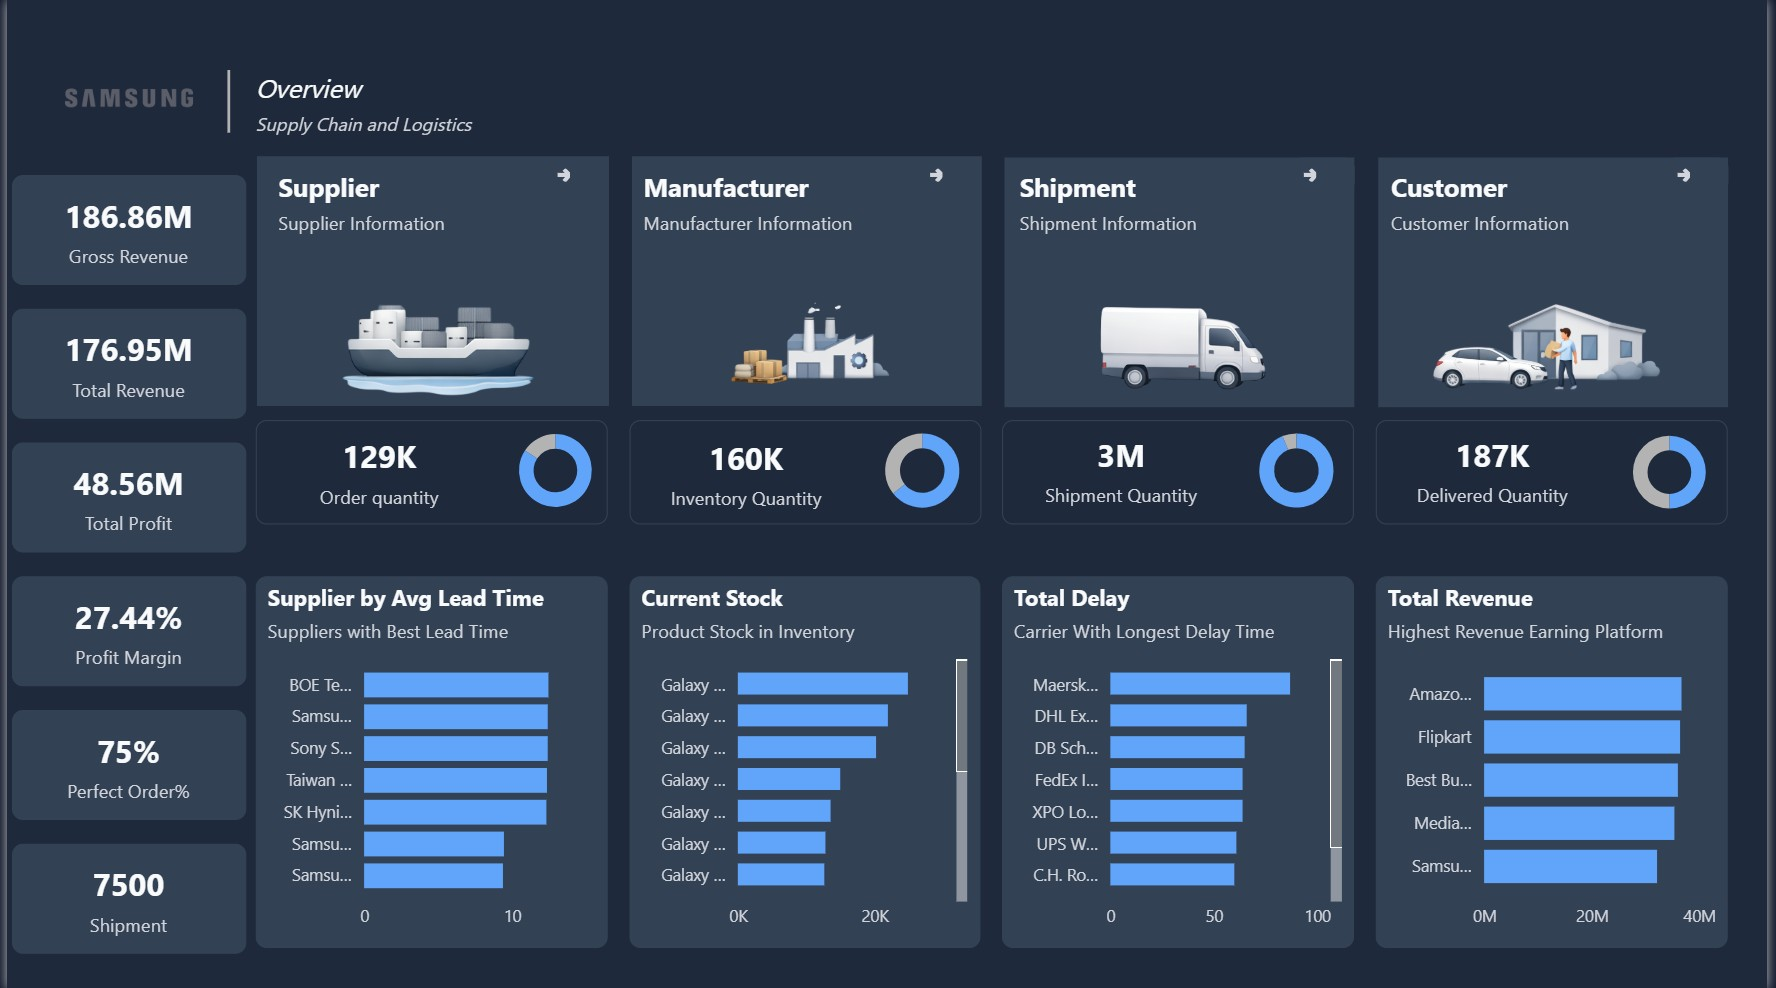

The page's visual inventory and layout, read from the dashboard file:
{"tool":"powerbi","page":{"name":"Overview","canvas":[1280,720],"ordinal":1},"visuals":[{"type":"shape","title":"Overview","box":[181.1,51.1,203.3,62.2],"z":0},{"type":"shape","box":[181.7,113.3,255.7,181.8],"z":0,"group":"g1"},{"type":"shape","box":[454,113.8,254.4,181.9],"z":1000,"group":"g1"},{"type":"shape","box":[181.2,305,256.2,76.2],"z":1000},{"type":"shape","box":[118.9,51.1,84.4,45.6],"z":2000},{"type":"shape","box":[725.6,114.1,254.4,181.9],"z":2000,"group":"g1"},{"type":"group","id":"g1","title":"Group 1","box":[181.7,113.3,1069.9,182.9],"z":3000},{"type":"shape","box":[997.2,114.4,254.4,181.9],"z":3000,"group":"g1"},{"type":"image","box":[16.7,0,144.4,142.2],"z":4000},{"type":"image","box":[224.1,200.8,171.2,91.8],"z":4000,"group":"g1"},{"type":"image","box":[1021.8,210.1,203.6,80.7],"z":5000,"group":"g1"},{"type":"card","fields":{"Values":["calculated_tbl.Total_revenue"]},"box":[3.8,224.8,170,80],"z":5000},{"type":"image","box":[767.5,203.6,172.5,89],"z":6000,"group":"g1"},{"type":"card","fields":{"Values":["calculated_tbl.Total_profit"]},"box":[3.8,322,170,80],"z":6000},{"type":"image","box":[475.7,205.4,210.1,85.3],"z":7000,"group":"g1"},{"type":"card","fields":{"Values":["calculated_tbl.Profit_margin"]},"box":[3.8,419.2,170,80],"z":7000},{"type":"actionButton","box":[391.4,114.5,45.4,26],"z":8000,"group":"g1"},{"type":"card","fields":{"Values":["calculated_tbl.Perfect_Order%"]},"box":[3.8,516.5,170,80],"z":8000},{"type":"actionButton","box":[1205.9,114.5,45.4,26],"z":9000,"group":"g1"},{"type":"card","fields":{"Values":["Sum(fact_sales.gross_revenue)"]},"box":[3.8,127.5,170,80],"z":9000},{"type":"actionButton","box":[934.9,114.5,45.4,26],"z":10000,"group":"g1"},{"type":"card","fields":{"Values":["calculated_tbl.Total_pdts_shipped"]},"box":[3.8,613.8,170,80],"z":10000},{"type":"actionButton","box":[662.5,114.5,45.4,26],"z":11000,"group":"g1"},{"type":"shape","box":[452.5,305,256.2,76.2],"z":11000},{"type":"shape","title":"Supplier","box":[193.6,118.5,184.3,57.1],"z":12000,"group":"g1"},{"type":"shape","box":[723.8,305,256.2,76.2],"z":12000},{"type":"shape","title":"Manufacturer","box":[459.3,118.5,190,57.1],"z":13000,"group":"g1"},{"type":"shape","box":[995,305,256.2,76.2],"z":13000},{"type":"shape","title":"Shipment","box":[732.2,118.5,192.9,57.1],"z":14000,"group":"g1"},{"type":"donutChart","title":"Order Quantity","fields":{"Y":["calculated_tbl.order_qty","calculated_tbl.Defect_rate"]},"box":[361.2,303.8,76.2,77.5],"z":14000},{"type":"shape","title":"Customer","box":[1002.2,118.5,191.4,55.7],"z":15000,"group":"g1"},{"type":"card","title":"Order Quantity","fields":{"Values":["calculated_tbl.Current_stock"]},"box":[452.5,305,170,76.2],"z":15000},{"type":"card","title":"Order Quantity","fields":{"Values":["calculated_tbl.Total_shipment_quantity"]},"box":[725.6,302.2,170,78.9],"z":16000},{"type":"card","title":"Order Quantity","fields":{"Values":["calculated_tbl.Total_delivery_quantity"]},"box":[995.6,302.2,170,78.9],"z":17000},{"type":"clusteredBarChart","title":"Supplier by Avg Lead Time","fields":{"Category":["dim_supplier.supplier_name"],"Y":["calculated_tbl.Avg_lead_time"]},"box":[181.2,418.8,256.2,270],"z":18000},{"type":"clusteredBarChart","title":"Current Stock","fields":{"Category":["dim_product.product_name"],"Y":["calculated_tbl.Current_stock"]},"box":[452.5,418.8,255,270],"z":19000},{"type":"clusteredBarChart","title":"Total Delay","fields":{"Category":["fact_shipment.carrier"],"Y":["calculated_tbl.Total_delay"]},"box":[723.8,418.8,256.2,270],"z":20000},{"type":"clusteredBarChart","title":"Total Revenue","fields":{"Y":["calculated_tbl.Total_revenue"],"Category":["dim_customer.customer_name"]},"box":[995,418.8,256.2,270],"z":21000},{"type":"card","title":"Order Quantity","fields":{"Values":["calculated_tbl.order_qty"]},"box":[181.2,303.8,180,77.5],"z":22000},{"type":"donutChart","title":"Order Quantity","fields":{"Y":["calculated_tbl.Current_stock","calculated_tbl.Safety_Stock"]},"box":[622.5,303.8,86.2,77.5],"z":23000},{"type":"donutChart","title":"Order Quantity","fields":{"Y":["calculated_tbl.Total_shipment_quantity","calculated_tbl.Total_delivered_quantity"]},"box":[895,303.8,85,77.5],"z":24000},{"type":"donutChart","title":"Order Quantity","fields":{"Y":["calculated_tbl.Total_delivered_quantity","calculated_tbl.Total_Qty_Delayed"]},"box":[1165,305,87.5,76.2],"z":25000}]}

Visuals, with their boxes in screenshot pixels (x1, y1, x2, y2), scaled from the page's 1280x720 canvas onto the 1776x988 screenshot:
"Overview" shape: bbox(251, 70, 533, 155)
shape: bbox(252, 155, 607, 405)
shape: bbox(630, 156, 983, 406)
shape: bbox(251, 419, 607, 523)
shape: bbox(165, 70, 282, 133)
shape: bbox(1007, 157, 1360, 406)
"Group 1" group: bbox(252, 155, 1737, 406)
shape: bbox(1384, 157, 1737, 407)
image: bbox(23, 0, 224, 195)
image: bbox(311, 276, 548, 402)
image: bbox(1418, 288, 1700, 399)
card - calculated_tbl.Total_revenue: bbox(5, 308, 241, 418)
image: bbox(1065, 279, 1304, 402)
card - calculated_tbl.Total_profit: bbox(5, 442, 241, 552)
image: bbox(660, 282, 952, 399)
card - calculated_tbl.Profit_margin: bbox(5, 575, 241, 685)
actionButton: bbox(543, 157, 606, 193)
card - calculated_tbl.Perfect_Order%: bbox(5, 709, 241, 819)
actionButton: bbox(1673, 157, 1736, 193)
card - Sum(fact_sales.gross_revenue): bbox(5, 175, 241, 285)
actionButton: bbox(1297, 157, 1360, 193)
card - calculated_tbl.Total_pdts_shipped: bbox(5, 842, 241, 952)
actionButton: bbox(919, 157, 982, 193)
shape: bbox(628, 419, 983, 523)
"Supplier" shape: bbox(269, 163, 524, 241)
shape: bbox(1004, 419, 1360, 523)
"Manufacturer" shape: bbox(637, 163, 901, 241)
shape: bbox(1381, 419, 1736, 523)
"Shipment" shape: bbox(1016, 163, 1284, 241)
"Order Quantity" donutChart: bbox(501, 417, 607, 523)
"Customer" shape: bbox(1391, 163, 1656, 239)
"Order Quantity" card: bbox(628, 419, 864, 523)
"Order Quantity" card: bbox(1007, 415, 1243, 523)
"Order Quantity" card: bbox(1381, 415, 1617, 523)
"Supplier by Avg Lead Time" clusteredBarChart: bbox(251, 575, 607, 945)
"Current Stock" clusteredBarChart: bbox(628, 575, 982, 945)
"Total Delay" clusteredBarChart: bbox(1004, 575, 1360, 945)
"Total Revenue" clusteredBarChart: bbox(1381, 575, 1736, 945)
"Order Quantity" card: bbox(251, 417, 501, 523)
"Order Quantity" donutChart: bbox(864, 417, 983, 523)
"Order Quantity" donutChart: bbox(1242, 417, 1360, 523)
"Order Quantity" donutChart: bbox(1616, 419, 1738, 523)
